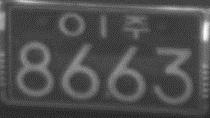0: (58, 10, 87, 37)
1: (92, 12, 116, 38)
3: (152, 45, 194, 106)
6: (105, 44, 148, 104), (59, 41, 100, 100)
8: (15, 38, 55, 98)
주: (121, 12, 150, 40)
